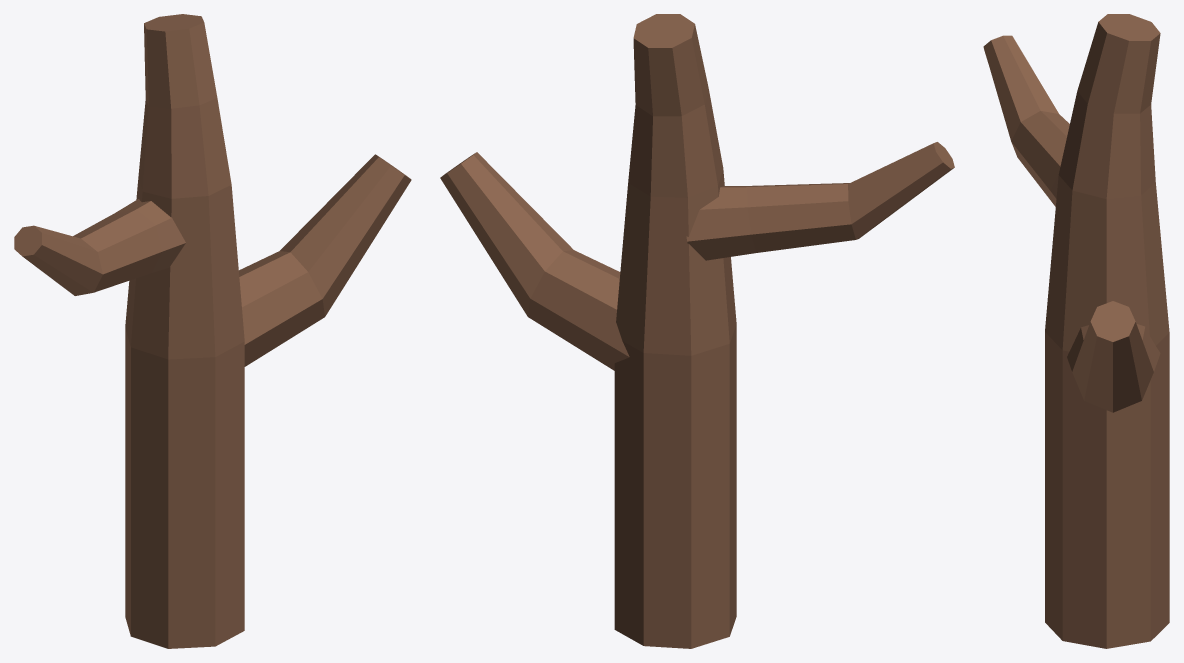
File: Tree1.fbx
3 views of the same model, side by side, from view 1: azimuth 30°, elevation 25°; view 2: azimuth 150°, elevation 25°; view 3: azimuth 270°, elevation 25° (orthographic).
Visible parts, largest first — view 1: Circle.002; view 2: Circle.002; view 3: Circle.002.
Part boxes in pixels (box(x1,y1,x2,y2)): Circle.002: box(14, 14, 411, 648); Circle.002: box(440, 14, 954, 648); Circle.002: box(983, 14, 1169, 648).
Size of the model in its own units: 550 by 702 by 197.
